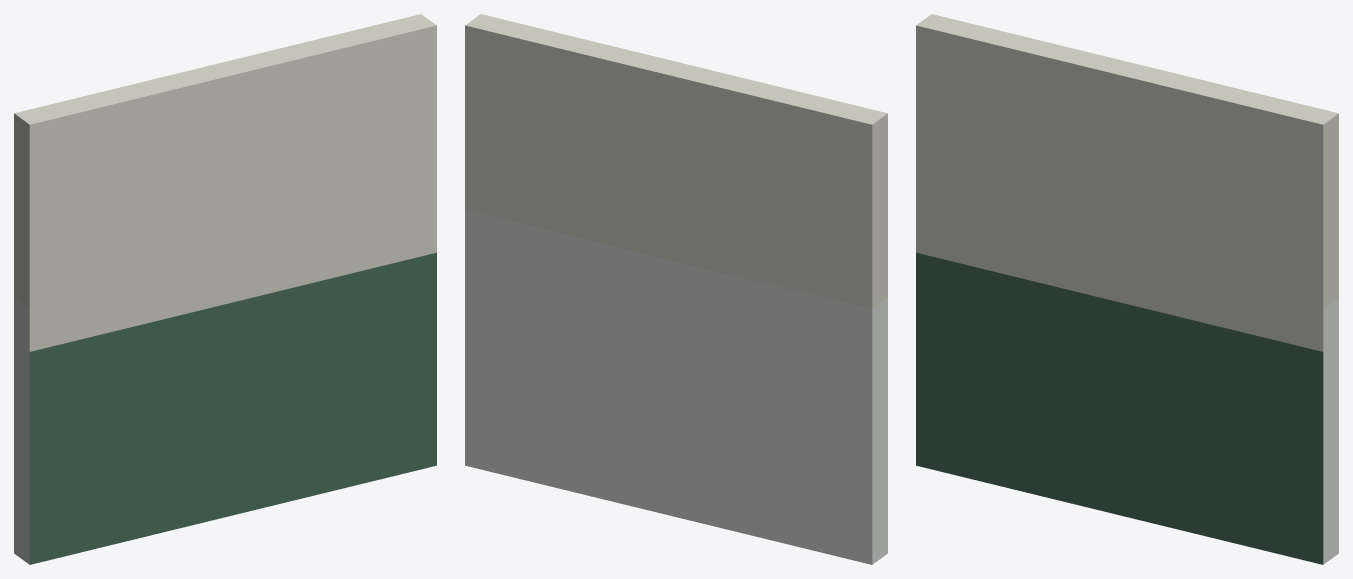
The model's file is hosp_wall_tile_paint.glb.
3 views of the same model, side by side, from view 1: azimuth 30°, elevation 25°; view 2: azimuth 150°, elevation 25°; view 3: azimuth 330°, elevation 25° (orthographic).
Visible parts, largest first — view 1: hosp_wall_tile_paint-col; view 2: hosp_wall_tile_paint-col; view 3: hosp_wall_tile_paint-col.
Boxes of the visible parts, x1,y1,x2,y2 form: hosp_wall_tile_paint-col: (14,14,436,564); hosp_wall_tile_paint-col: (465,14,887,564); hosp_wall_tile_paint-col: (916,14,1338,564).
Size of the model in its own units: 3 by 3.1 by 0.2.
